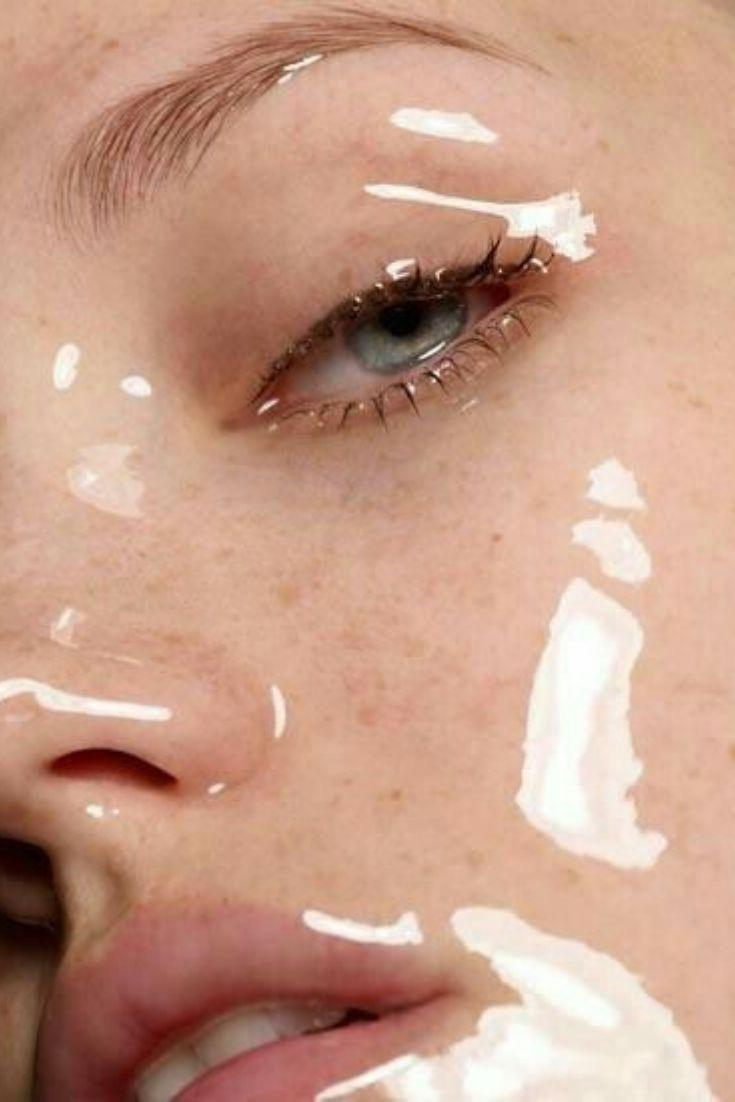Dry-Skin: (325, 483, 690, 838), (58, 452, 215, 628)
